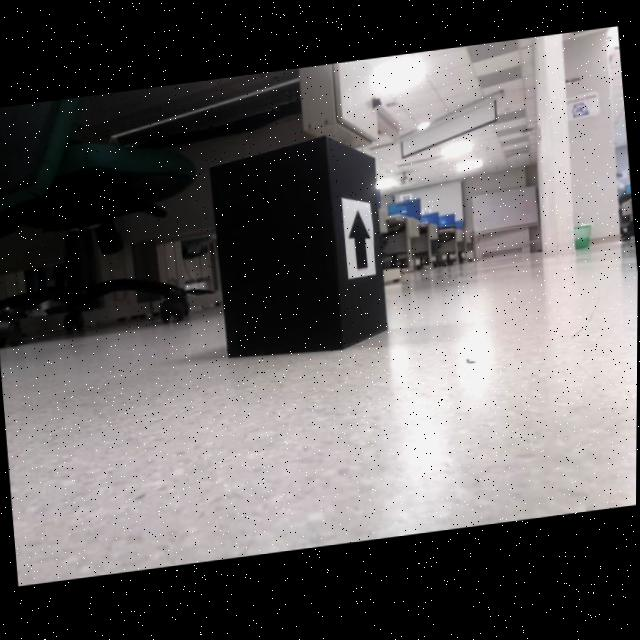UP: (348, 212, 372, 273)
